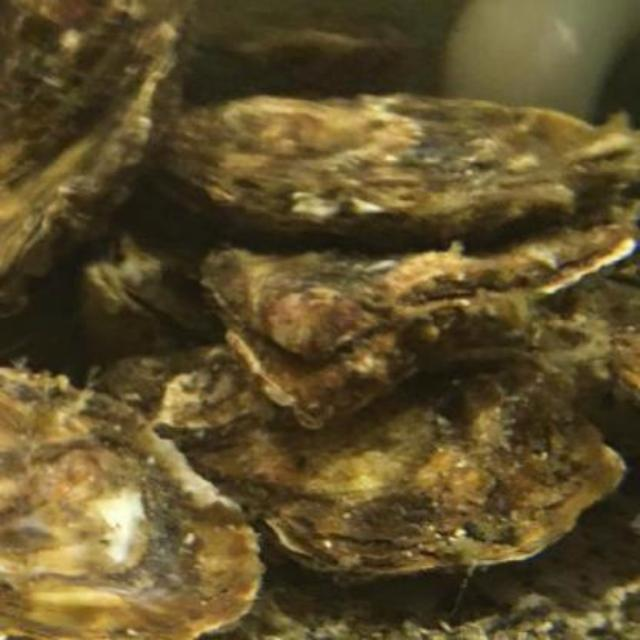Oyster-Closed: (88, 356, 620, 567), (218, 223, 640, 426), (149, 97, 640, 251), (0, 381, 258, 639), (0, 0, 185, 315)
